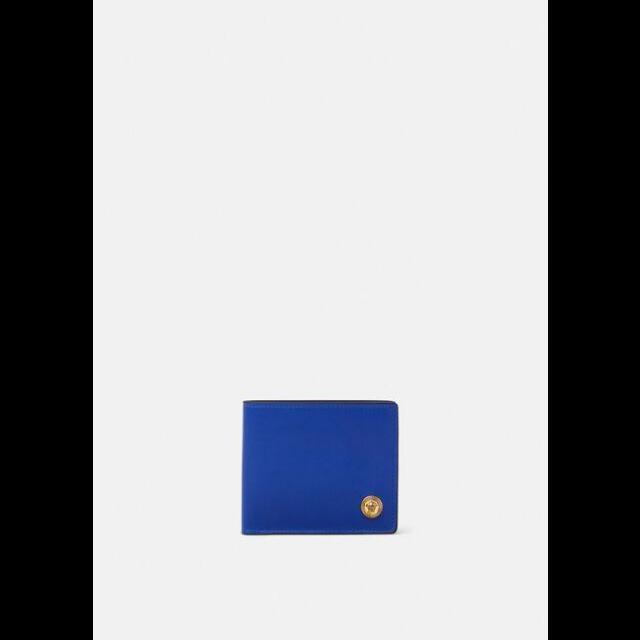wallet: (236, 395, 402, 539)
